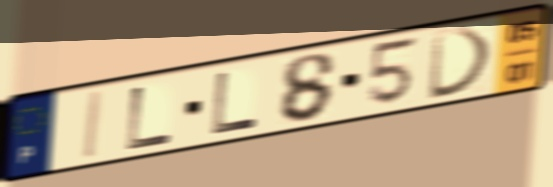5: (364, 36, 421, 109)
8: (278, 51, 339, 124)
D: (426, 24, 498, 103)
I: (80, 87, 107, 163)
L: (123, 83, 178, 154), (208, 68, 260, 137)
